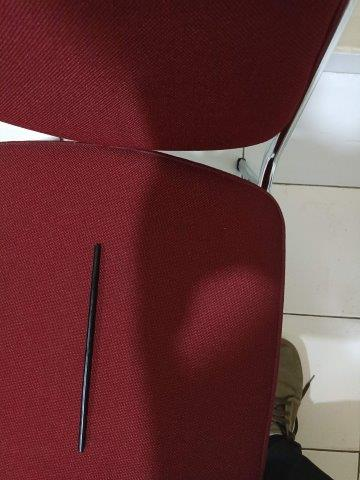sedotan: (78, 246, 101, 452)
